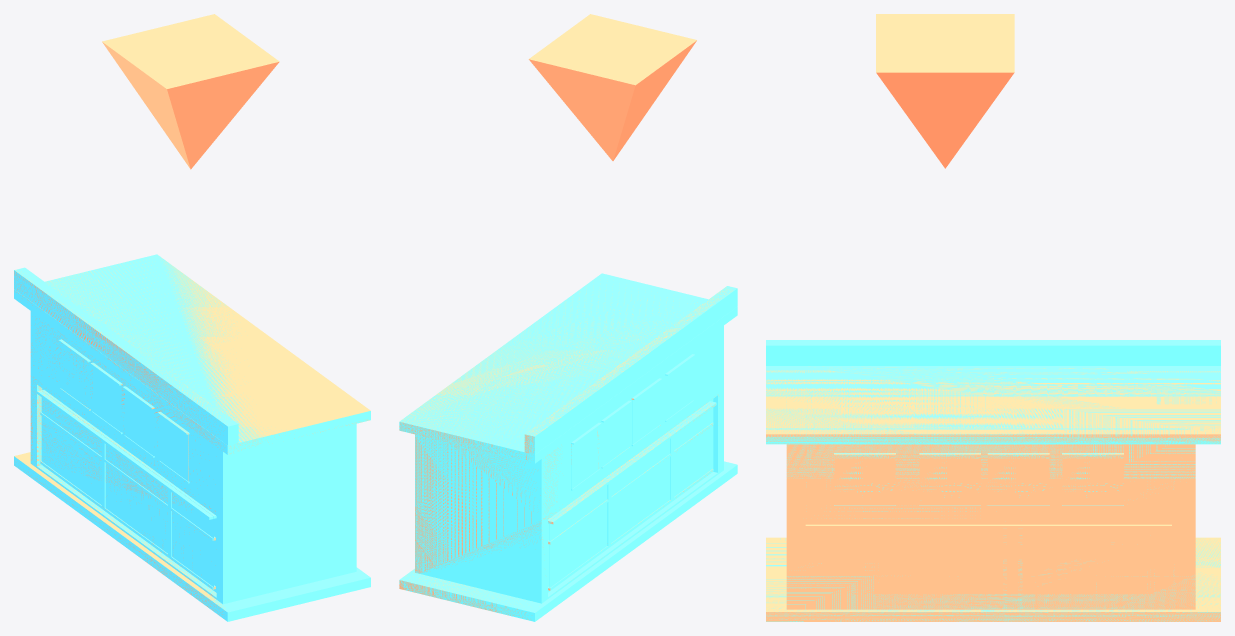
Rendered from build11p.gltf.
3 renders of one model, left to right at view 1: azimuth 30°, elevation 25°; view 2: azimuth 150°, elevation 25°; view 3: azimuth 270°, elevation 25°, orthographic. The views are drawn at different scales.
Visible parts, largest first — view 1: subject, fire, fire-mark; view 2: subject, fire, fire-mark; view 3: fire, subject, fire-mark.
Part boxes in pixels (x1,y1,x2,y2): subject: (14, 254, 370, 621); fire: (14, 257, 370, 614); fire-mark: (102, 14, 279, 169); subject: (399, 273, 737, 621); fire: (399, 287, 732, 619); fire-mark: (528, 14, 696, 160); fire: (766, 367, 1220, 621); subject: (766, 340, 1220, 621); fire-mark: (876, 14, 1014, 168).
Size of the model in its own units: 7.89 by 24.6 by 19.18.
